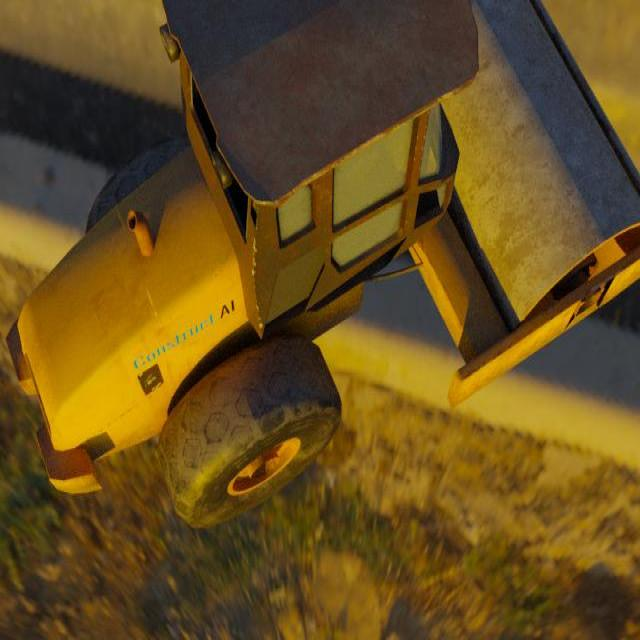Roller: (4, 0, 640, 529)
